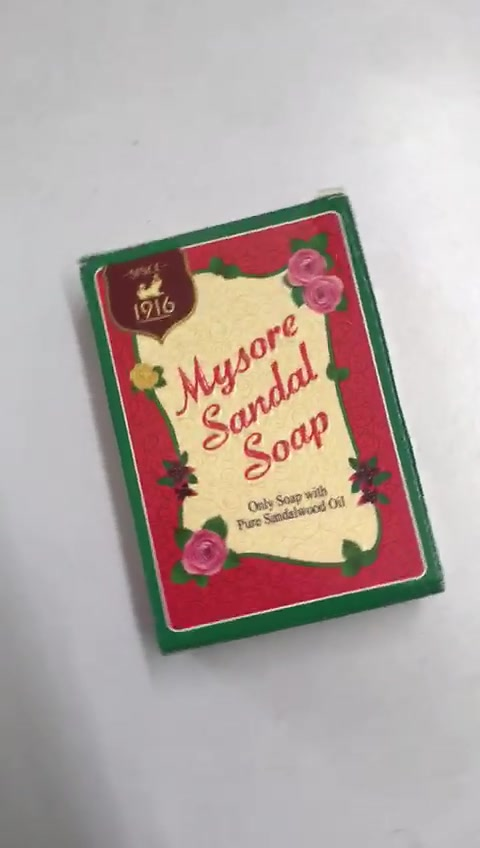mysore sandal soap: (81, 196, 448, 657)
